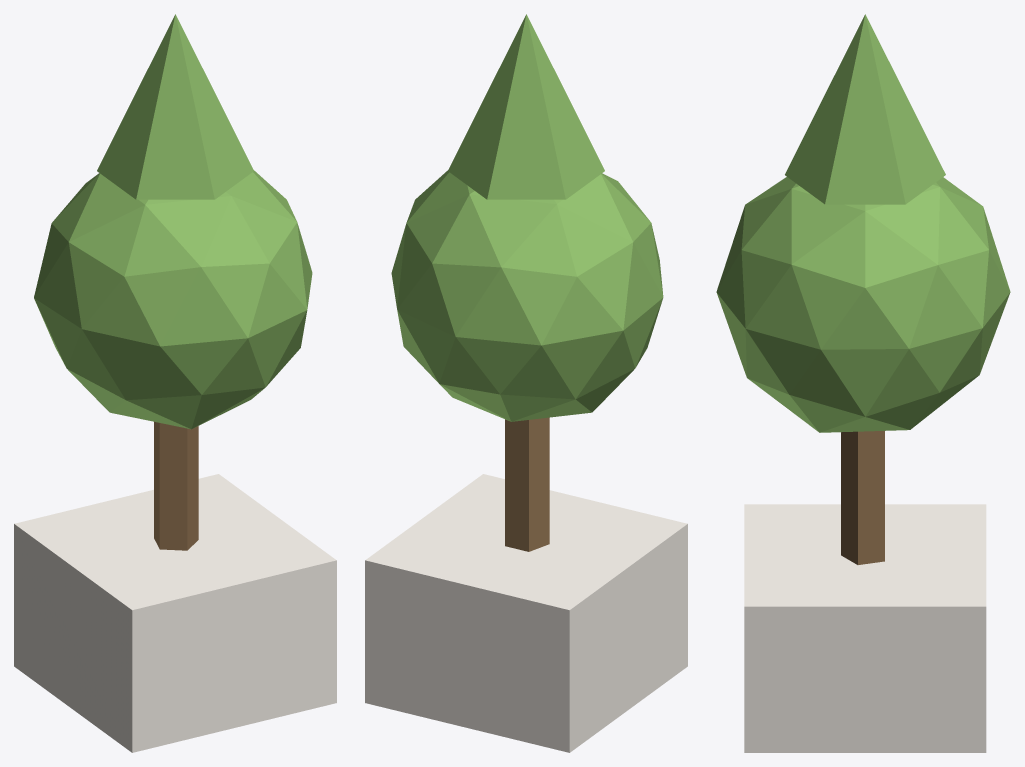
The model's file is topiary.glb.
3 renders of one model, left to right at view 1: azimuth 30°, elevation 25°; view 2: azimuth 150°, elevation 25°; view 3: azimuth 270°, elevation 25°, orthographic. The views are drawn at different scales.
Visible parts, largest first — view 1: park-topiary; view 2: park-topiary; view 3: park-topiary.
Boxes of the visible parts, <box> form: park-topiary: <box>14,14,336,752</box>; park-topiary: <box>365,14,687,752</box>; park-topiary: <box>716,14,1010,752</box>.
Bounding box in the file's own units: 0.3441 × 0.94 × 0.3643.
